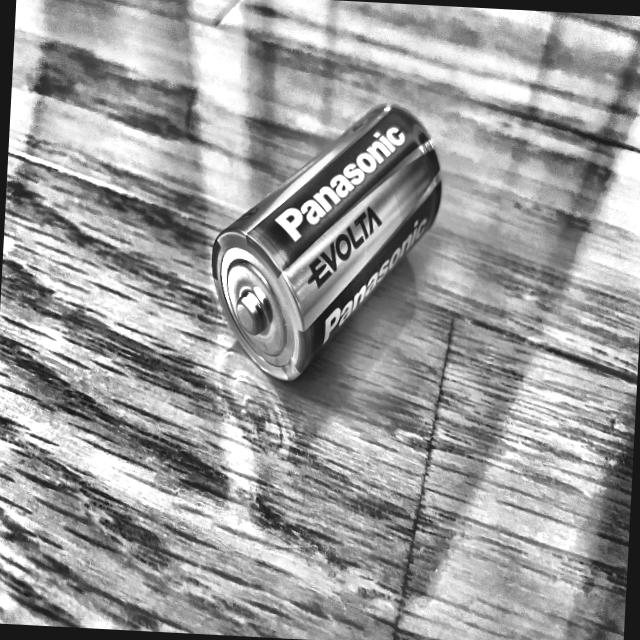drycell: (198, 85, 452, 411)
